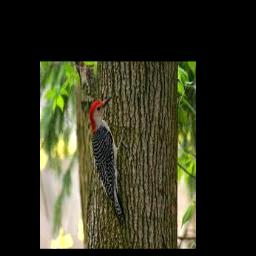Woodpecker: (89, 95, 128, 220)
